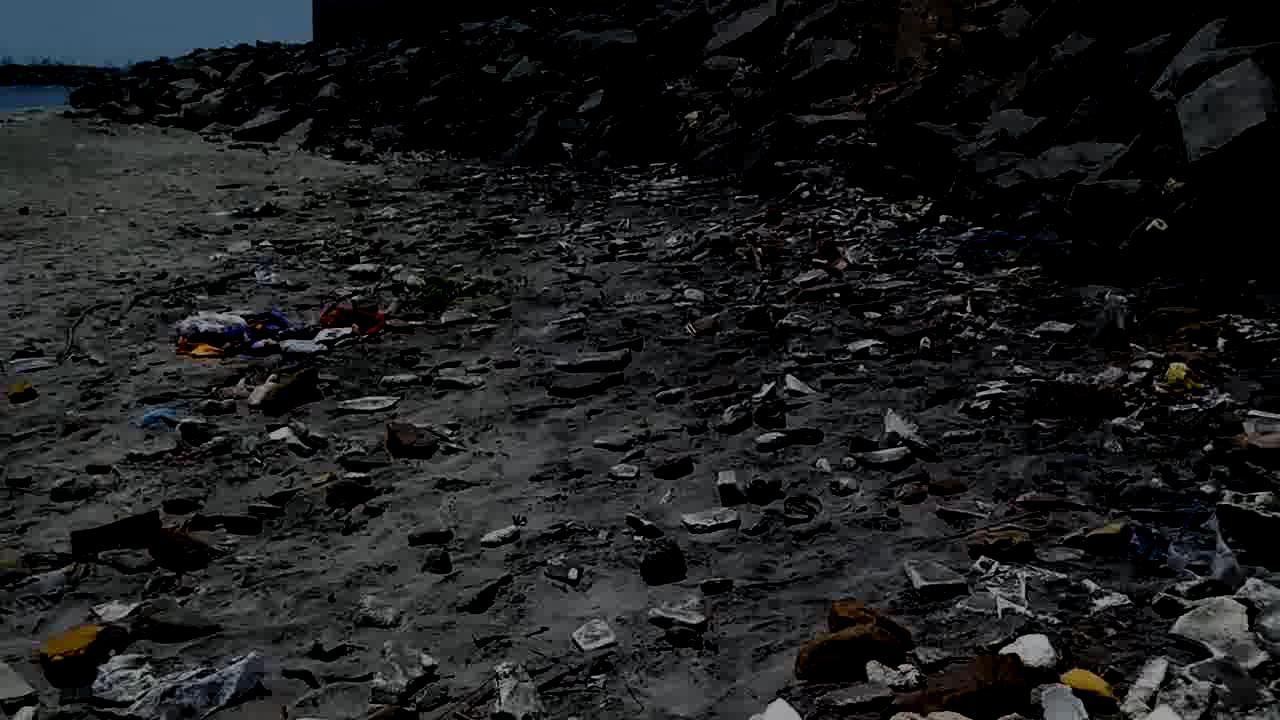large collection of objects: (600, 160, 986, 341)
obj: (1116, 581, 1279, 719), (169, 304, 392, 359), (946, 561, 1134, 622), (94, 654, 264, 720), (794, 594, 910, 684), (881, 653, 1030, 715), (112, 262, 262, 323), (704, 370, 817, 448), (539, 333, 642, 398), (1168, 513, 1242, 598), (851, 412, 938, 466), (71, 506, 164, 554), (1026, 378, 1118, 424), (54, 297, 116, 364), (34, 622, 104, 678), (374, 641, 438, 700), (1139, 510, 1200, 568), (488, 656, 544, 715), (1150, 360, 1216, 400), (264, 368, 318, 416), (1060, 668, 1116, 708), (973, 528, 1038, 562), (154, 525, 206, 562), (267, 424, 327, 454), (684, 508, 740, 539), (412, 274, 458, 308), (1243, 408, 1279, 449), (573, 618, 615, 652), (650, 603, 706, 628), (1086, 520, 1130, 550), (468, 526, 522, 550), (958, 234, 1008, 258), (338, 396, 401, 411), (142, 406, 174, 428), (8, 383, 35, 403), (342, 265, 382, 278), (1148, 219, 1167, 236)
sand/background: (0, 0, 1279, 301)
